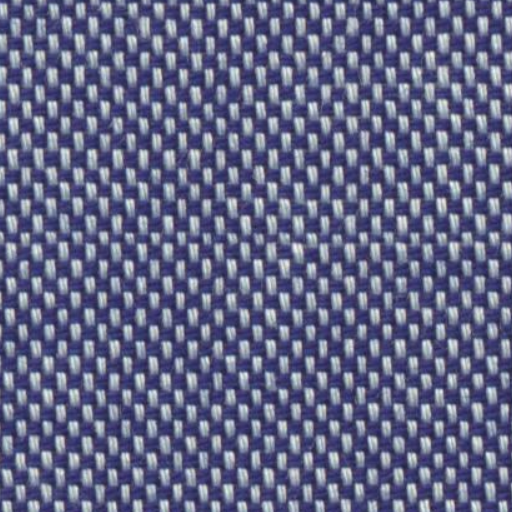TuoSha: (8, 212, 501, 286)
